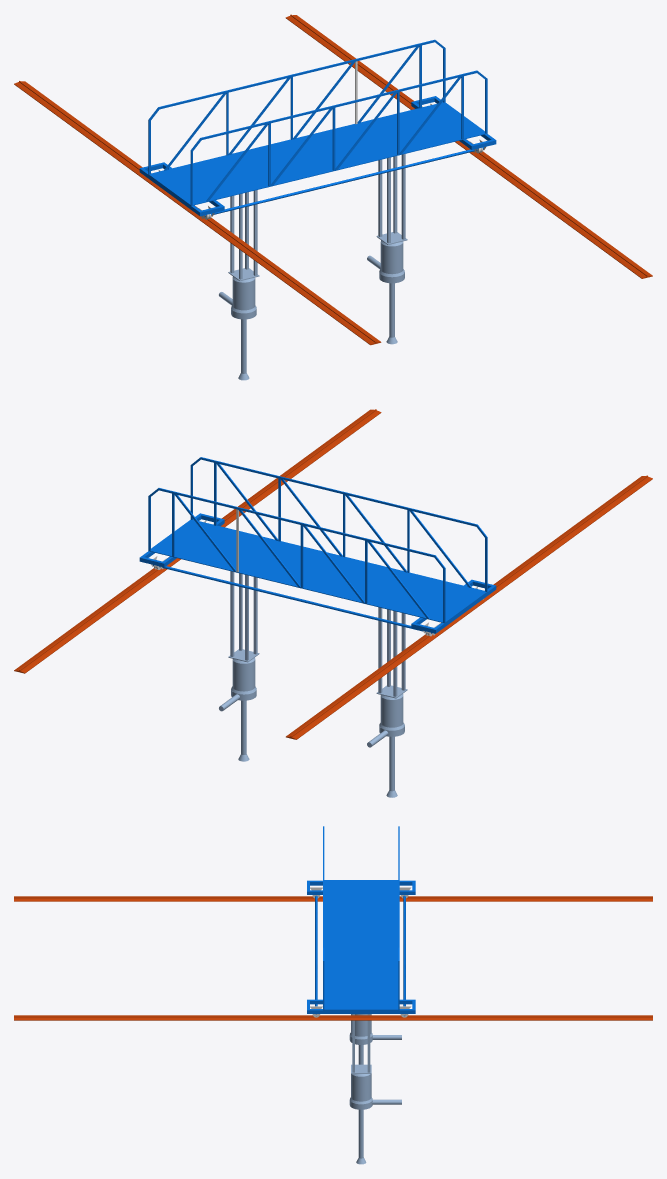
File: bridge-sandsuction-machine.gltf
3 views of the same model, one above another, from view 1: azimuth 30°, elevation 25°; view 2: azimuth 150°, elevation 25°; view 3: azimuth 270°, elevation 25° (orthographic). The views are drawn at different scales.
Parts seen in each view (by area): view 1: 拉伸 [300277], 拉伸 [300721], 拉伸 [300788], 拉伸 [300973], 拉伸 [300287], 拉伸 [300306], 拉伸 [300822], 拉伸 [300717], 拉伸 [300801], 拉伸 [301108], 拉伸 [300561]; view 2: 拉伸 [300277], 拉伸 [300721], 拉伸 [300788], 拉伸 [300973], 拉伸 [300306], 拉伸 [300822], 拉伸 [300287], 拉伸 [302392], 拉伸 [301108], 拉伸 [300801], 拉伸 [300561]; view 3: 拉伸 [300277], 拉伸 [300788], 拉伸 [300721], 拉伸 [300433], 拉伸 [301108].
Part boxes in pixels (x1,y1,x2,y2): 拉伸 [300277]: (148,102,487,205); 拉伸 [300721]: (14,81,381,345); 拉伸 [300788]: (285,14,652,278); 拉伸 [300973]: (378,154,405,243); 拉伸 [300287]: (190,70,487,205); 拉伸 [300306]: (148,39,445,174); 拉伸 [300822]: (230,190,257,279); 拉伸 [300717]: (205,147,483,216); 拉伸 [300801]: (232,278,255,310); 拉伸 [301108]: (380,241,403,274); 拉伸 [300561]: (139,162,224,216); 拉伸 [300277]: (148,519,487,623); 拉伸 [300721]: (286,475,652,739); 拉伸 [300788]: (14,409,381,673); 拉伸 [300973]: (230,571,257,660); 拉伸 [300306]: (148,488,445,622); 拉伸 [300822]: (378,607,405,696); 拉伸 [300287]: (190,457,487,591); 拉伸 [302392]: (153,565,434,633); 拉伸 [301108]: (232,658,255,691); 拉伸 [300801]: (380,695,403,727); 拉伸 [300561]: (411,579,496,633); 拉伸 [300277]: (323,880,399,1010); 拉伸 [300788]: (14,1015,652,1020); 拉伸 [300721]: (14,896,652,901); 拉伸 [300433]: (307,999,415,1013); 拉伸 [301108]: (351,1074,371,1101).
Size of the model in its own units: 2.4 by 2.1 by 5.
